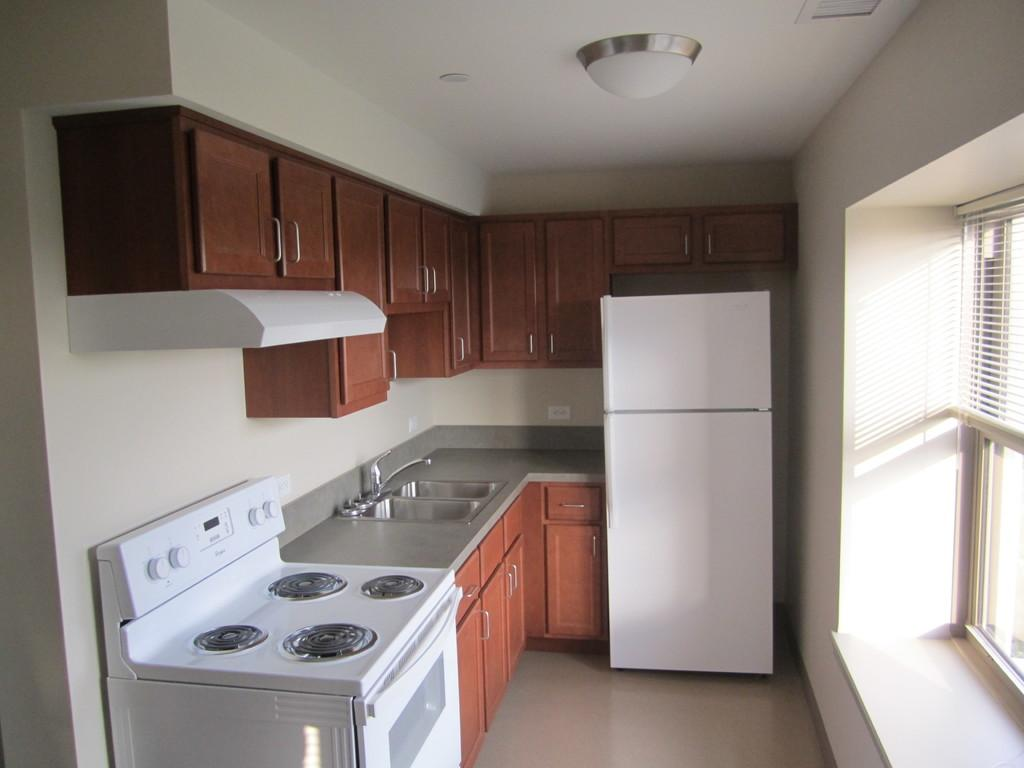cabinet_door: (196, 136, 278, 280), (340, 184, 390, 410), (546, 219, 600, 366), (484, 226, 538, 371), (536, 529, 603, 638), (275, 148, 333, 273), (692, 209, 791, 269), (446, 225, 480, 370), (610, 216, 696, 264), (454, 621, 488, 737), (382, 196, 416, 307), (546, 482, 600, 530), (504, 543, 526, 656), (420, 209, 444, 301), (486, 574, 504, 693), (450, 570, 478, 620)
handle: (375, 620, 452, 706), (601, 413, 623, 529), (600, 292, 616, 410), (283, 212, 307, 264), (270, 210, 288, 264), (557, 496, 593, 521), (384, 346, 402, 388), (480, 602, 494, 650), (521, 328, 539, 364), (542, 330, 562, 362), (451, 332, 472, 362), (702, 224, 718, 260), (462, 578, 482, 606), (420, 259, 433, 301), (582, 530, 600, 560), (499, 562, 511, 603), (680, 230, 694, 262), (427, 266, 440, 298), (511, 554, 519, 596)
